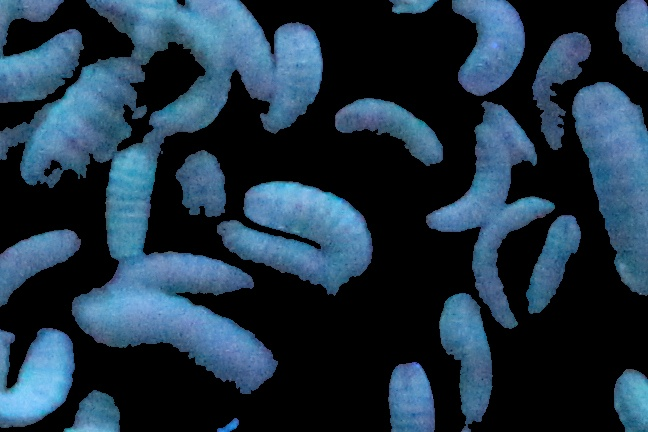larvae: (66, 290, 287, 403), (23, 63, 145, 187), (576, 81, 648, 291), (231, 184, 380, 271), (464, 189, 548, 328), (1, 289, 80, 416), (212, 215, 335, 296), (437, 291, 506, 431), (182, 1, 275, 100), (421, 127, 507, 231), (86, 143, 159, 260), (256, 21, 323, 146), (526, 29, 591, 154), (336, 96, 444, 167), (447, 1, 526, 98), (1, 224, 83, 310), (112, 249, 254, 297), (1, 29, 92, 95), (526, 211, 578, 319), (151, 74, 237, 137), (385, 354, 440, 432), (609, 1, 648, 71), (606, 368, 648, 432), (66, 391, 124, 432)
